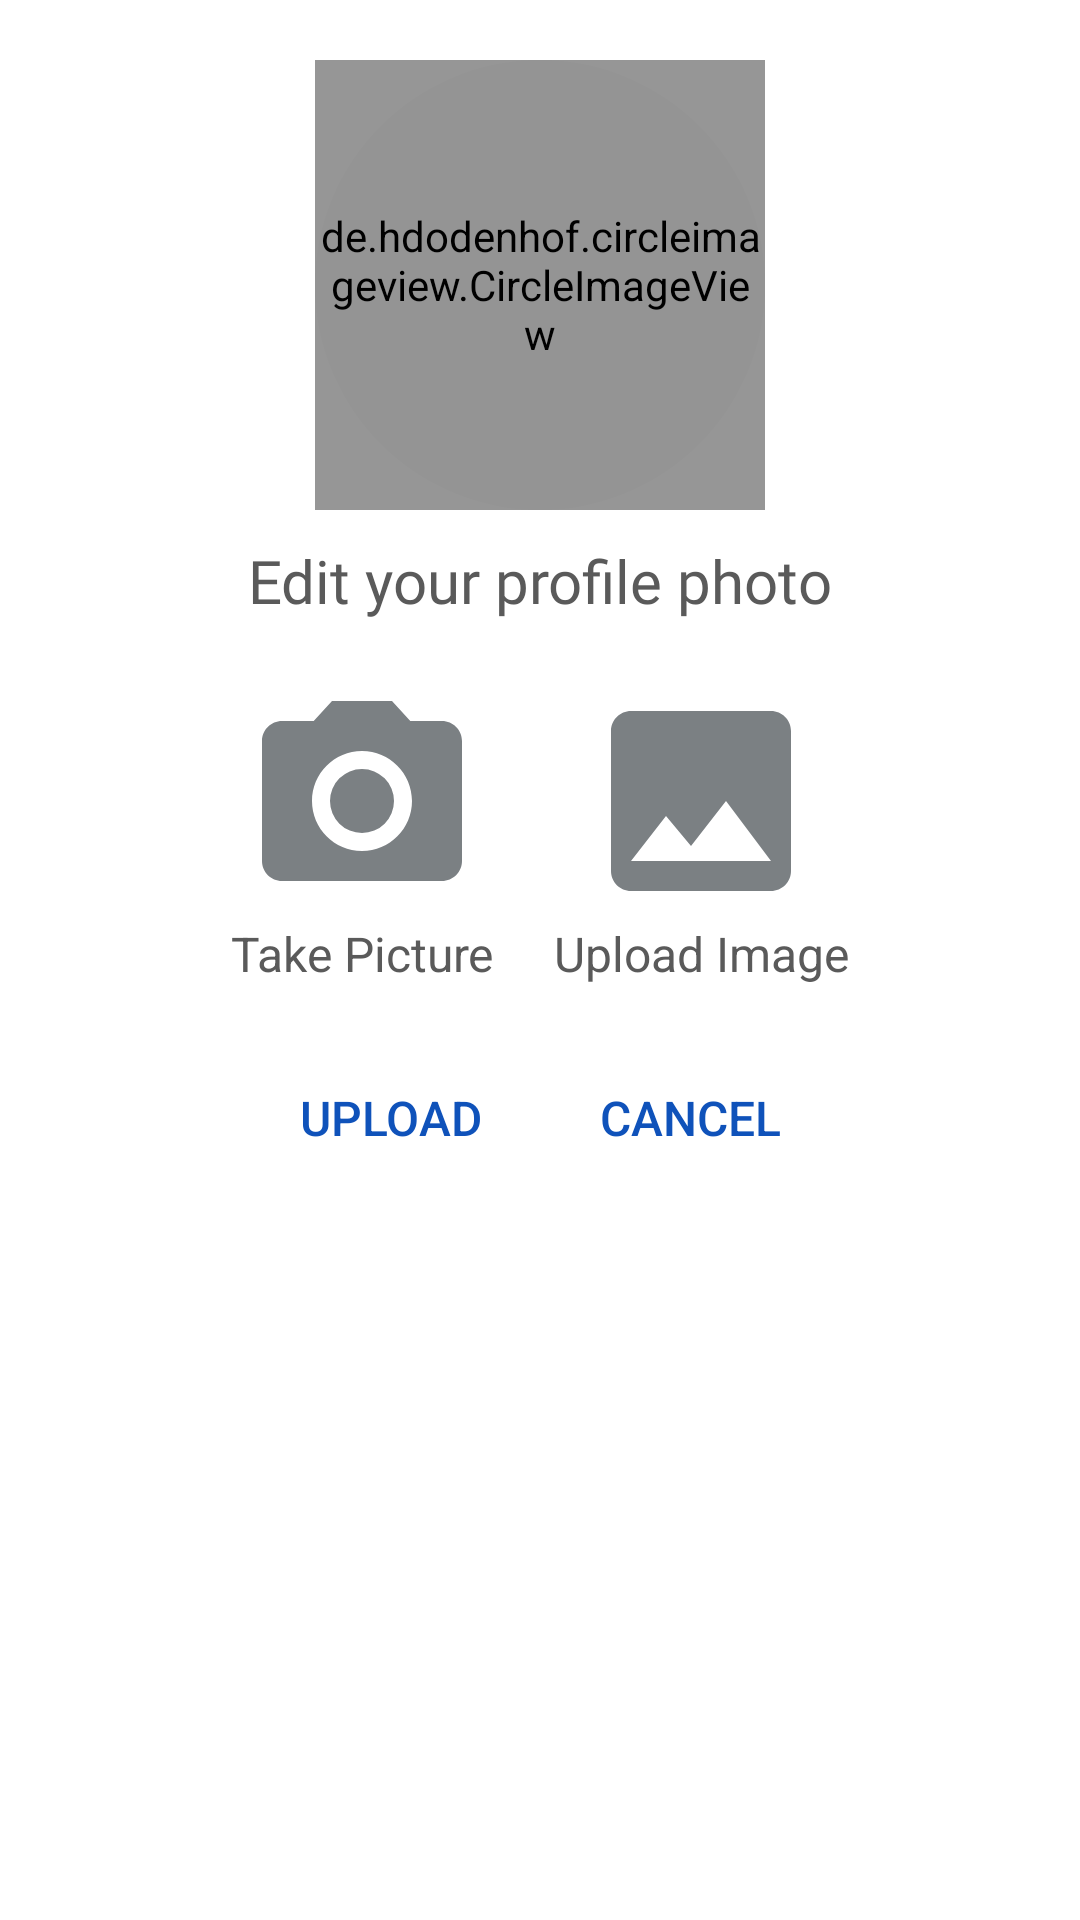

Where to tap for icons on this 1080px×1920px app screen, as (x,y):
photo camera: (362,791)
